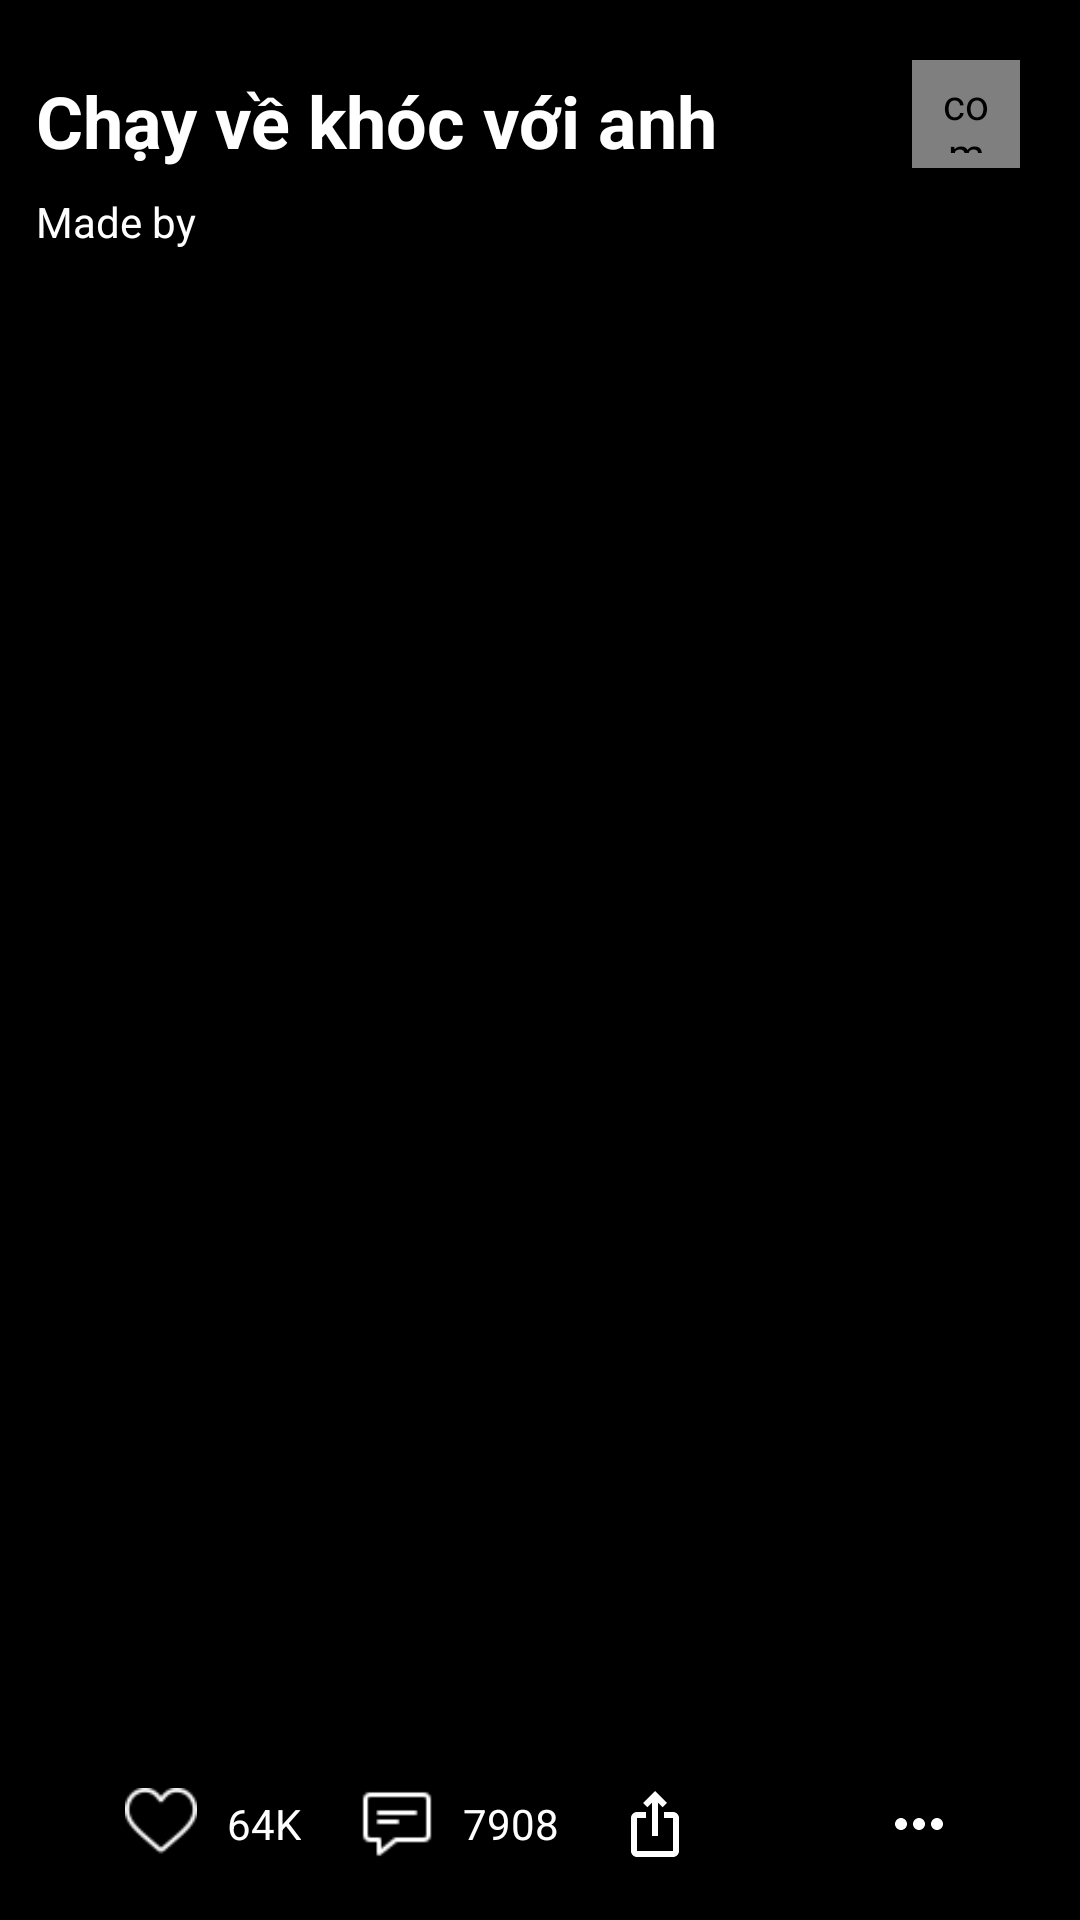

Locate icon controls on the screen. Image size 1080px x 1920px, boxes as (x1=x1, y1=y1, x2=x2, y2=y2).
comment: (x1=362, y1=1792, x2=432, y2=1856)
heart toggle: (x1=125, y1=1788, x2=197, y2=1854)
more: (x1=895, y1=1818, x2=943, y2=1830)
share: (x1=631, y1=1791, x2=679, y2=1857)
